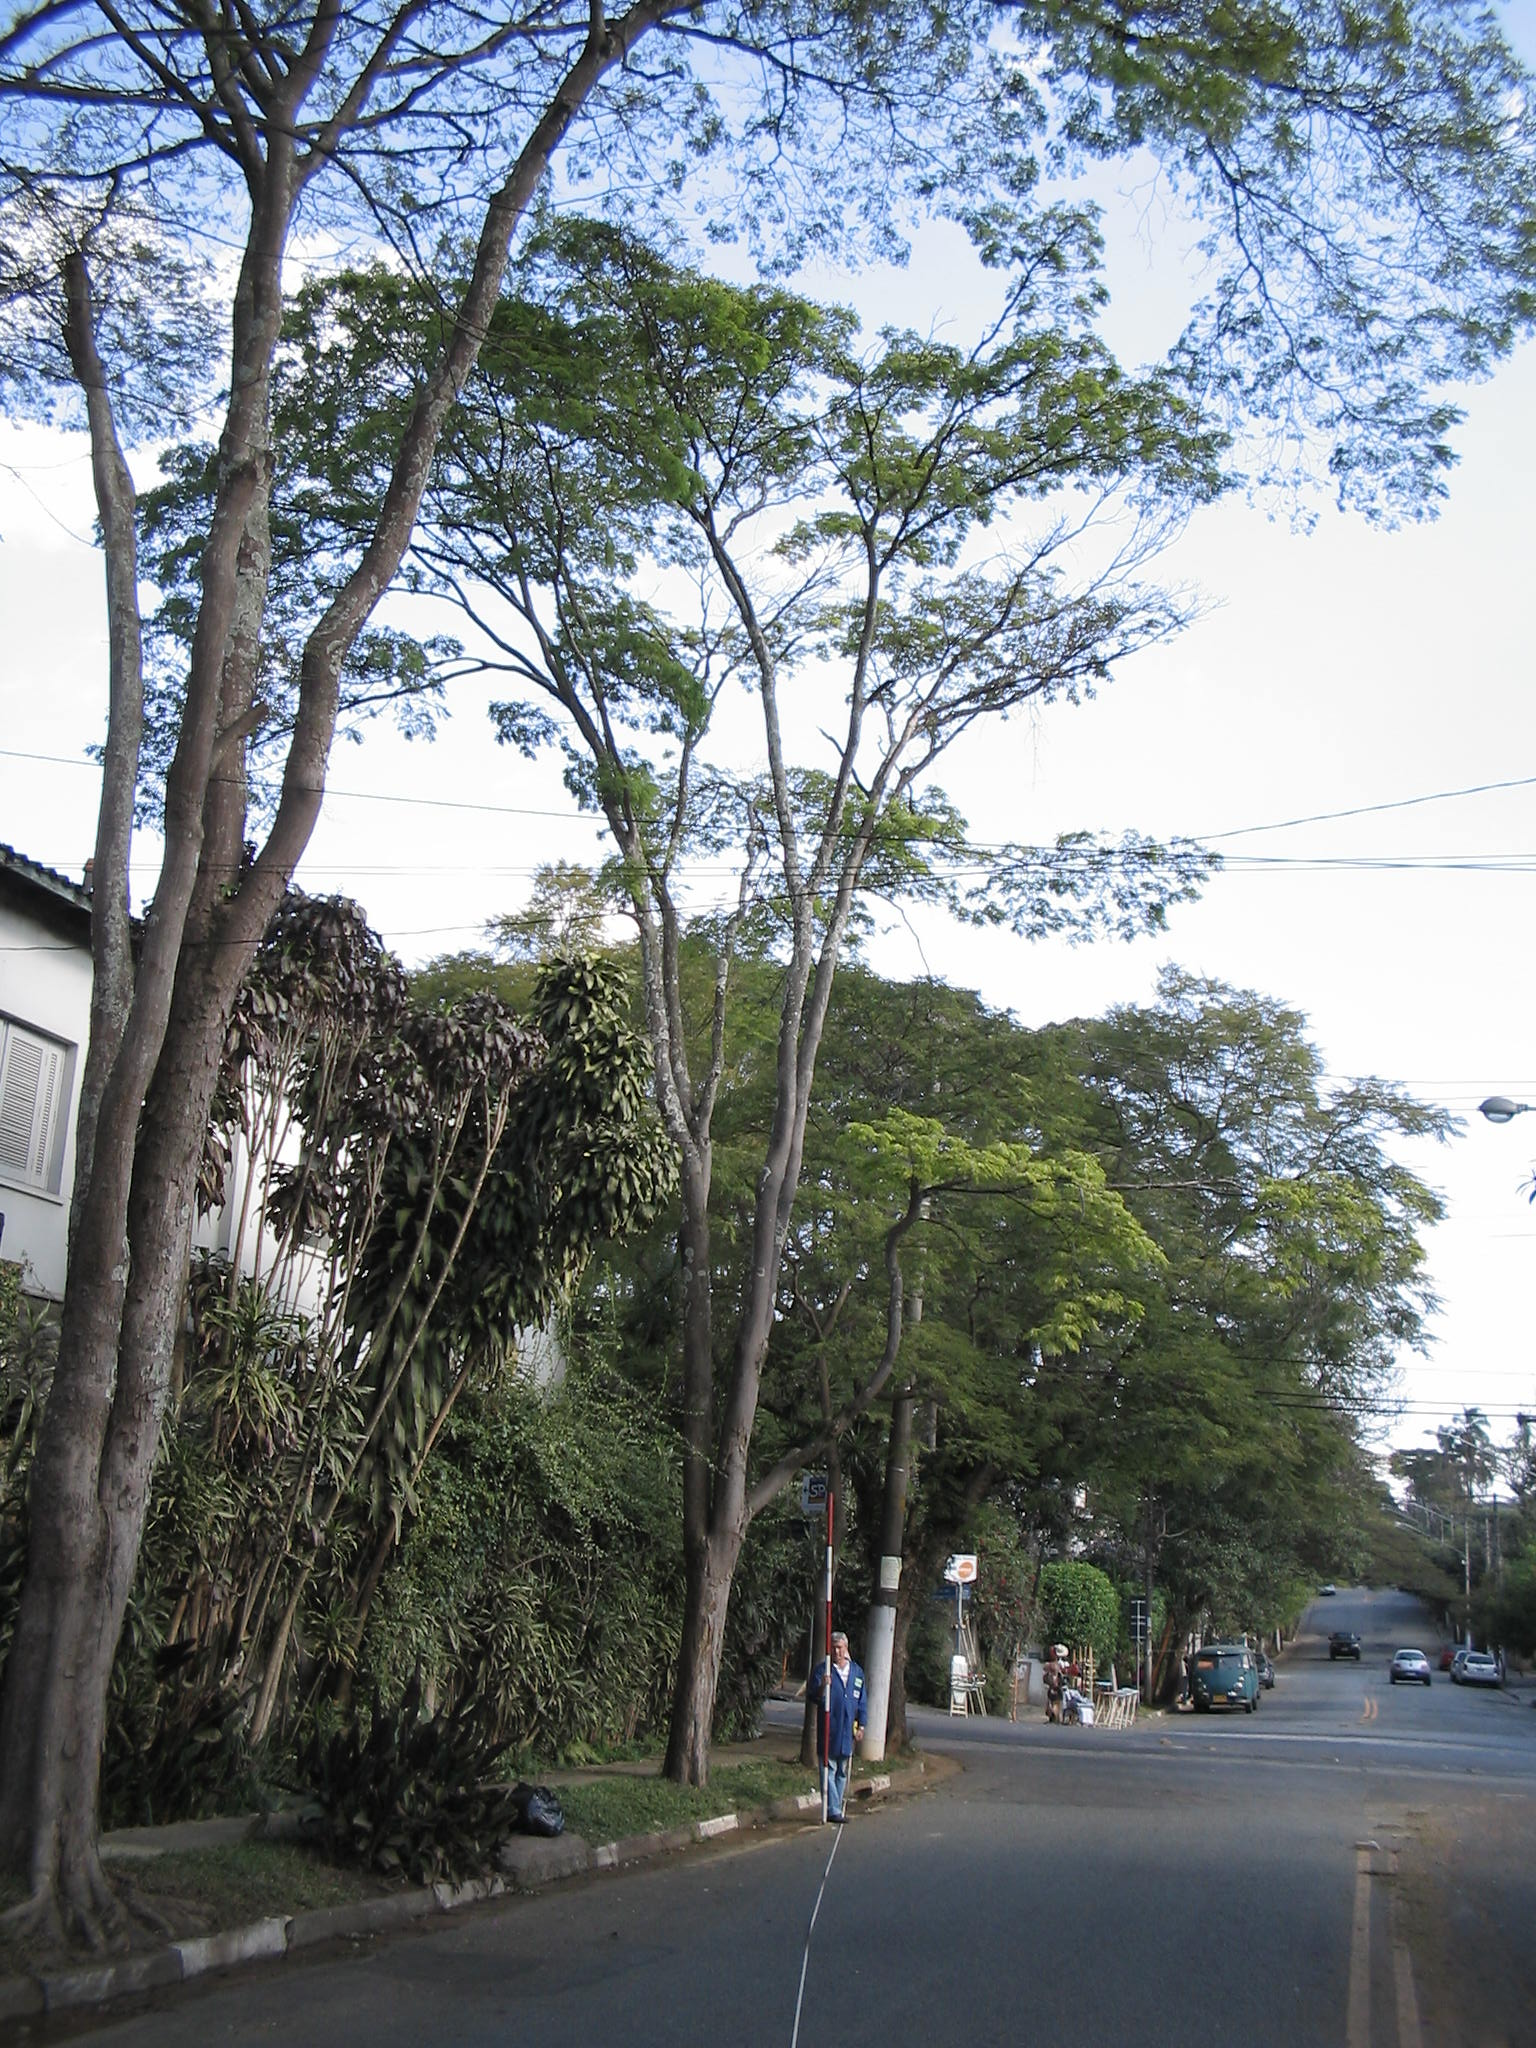crown: (158, 226, 1217, 1019)
stem: (616, 1543, 762, 1782)
stick: (799, 1496, 845, 1821)
tree: (153, 218, 1225, 1790)
